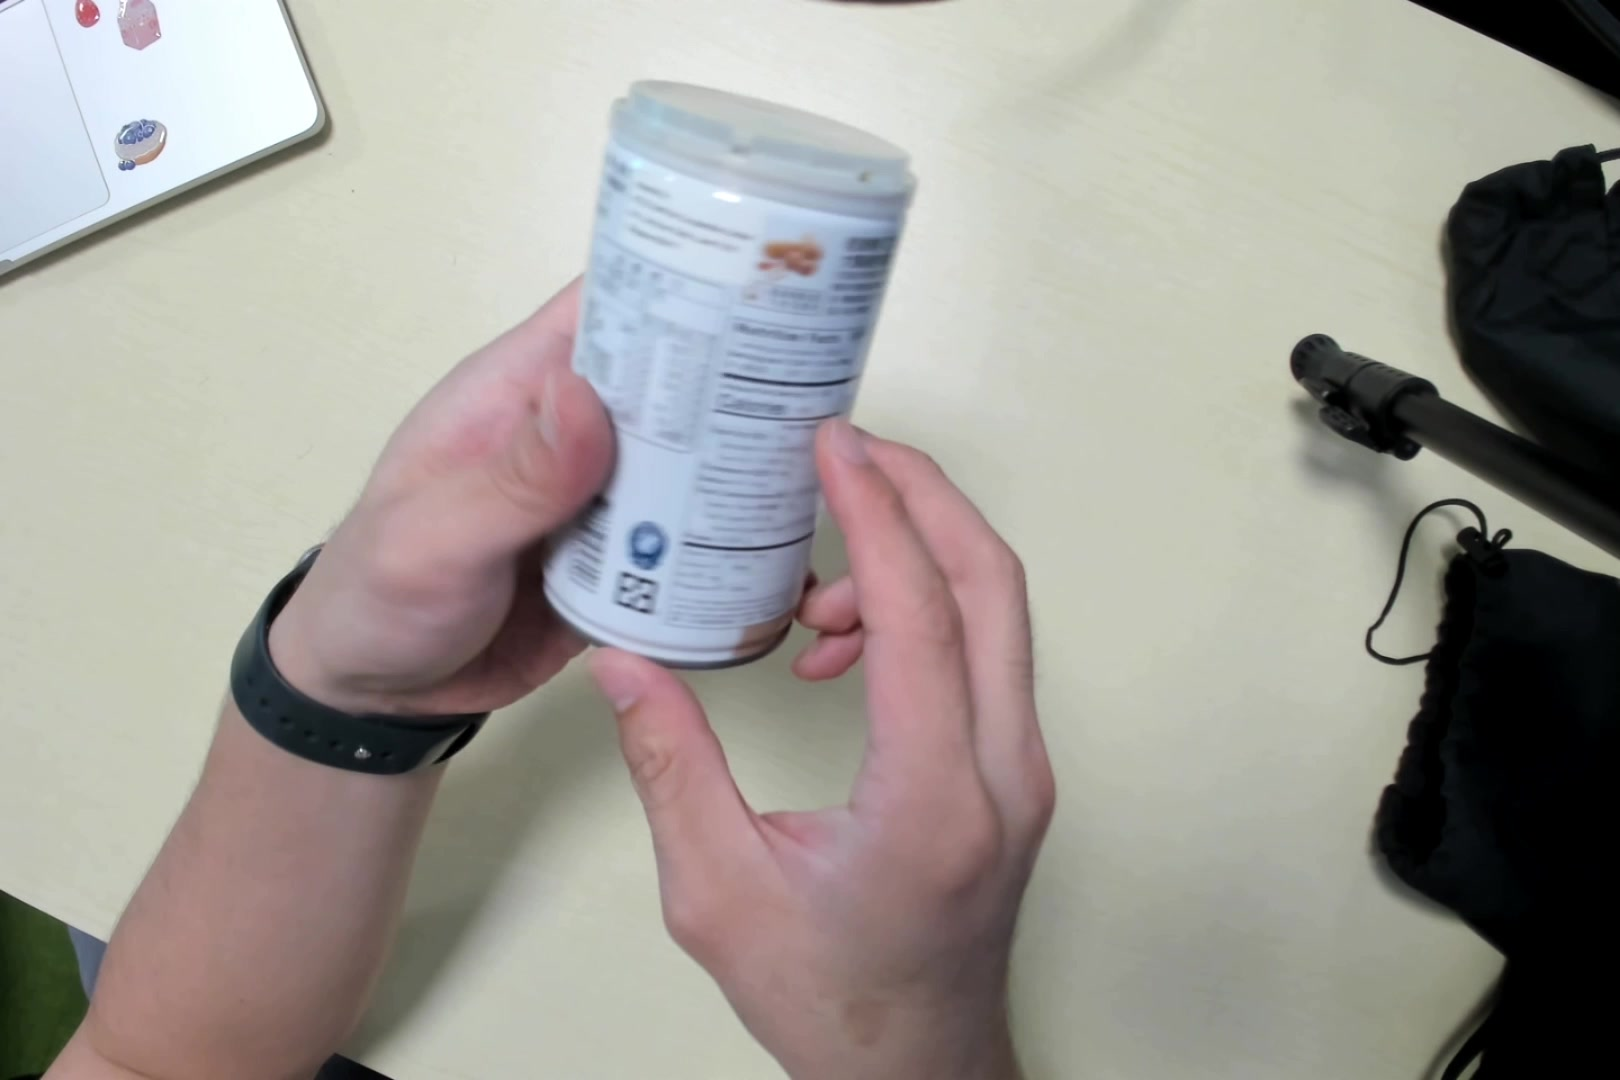InstantMeals_300-399g_NonHalal_NonHealthy: (540, 94, 912, 669)
